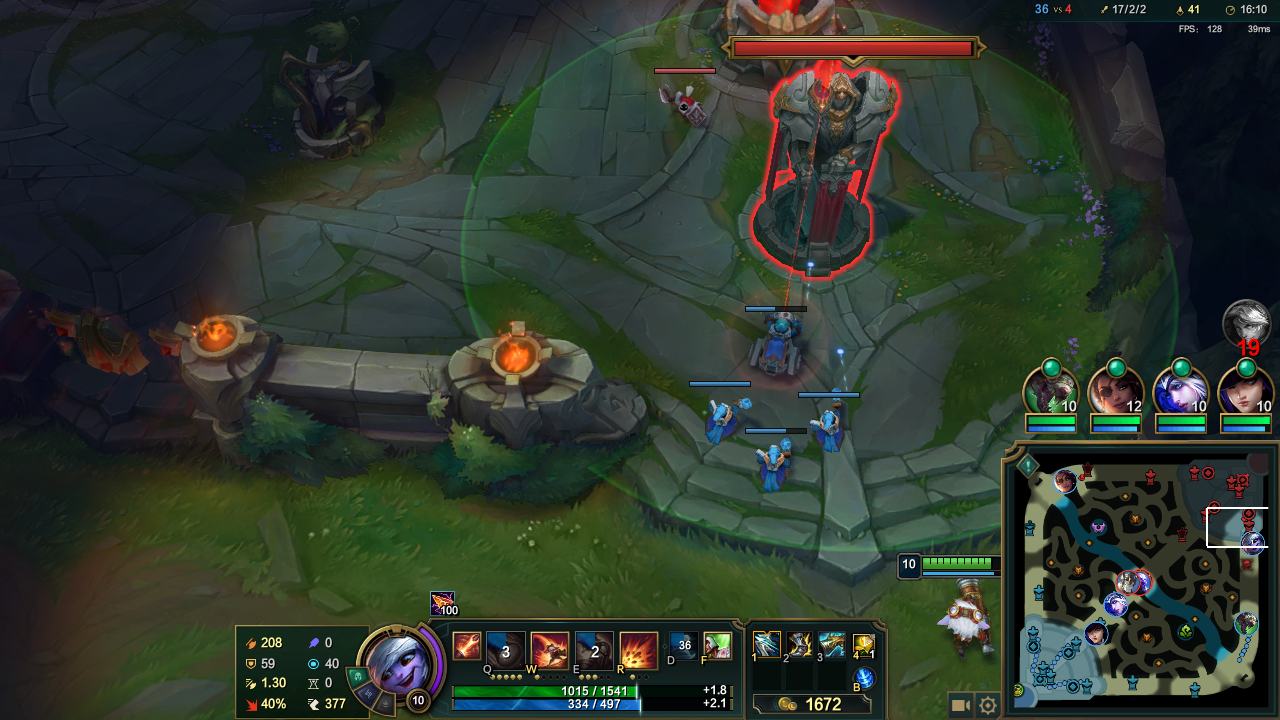DFFYT: (747, 62, 894, 275)
DFXB: (652, 79, 715, 132)
WFXB: (735, 313, 805, 384), (803, 395, 859, 456), (747, 433, 799, 492), (695, 393, 749, 442)
